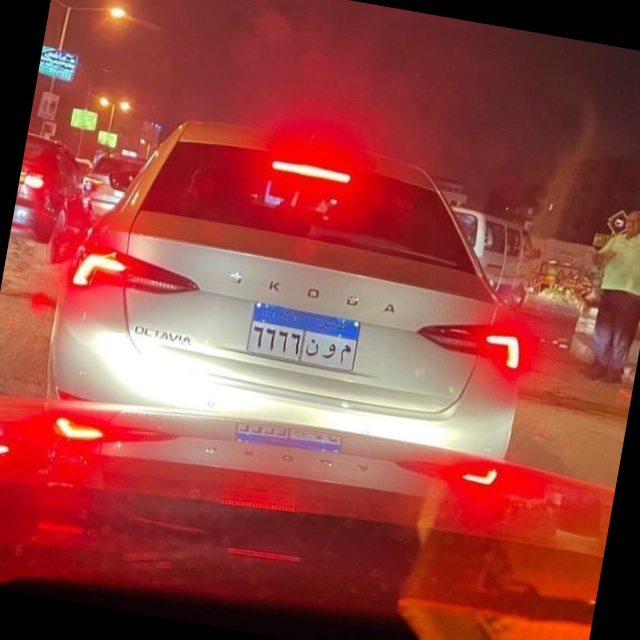License Plate: (244, 300, 363, 374)
